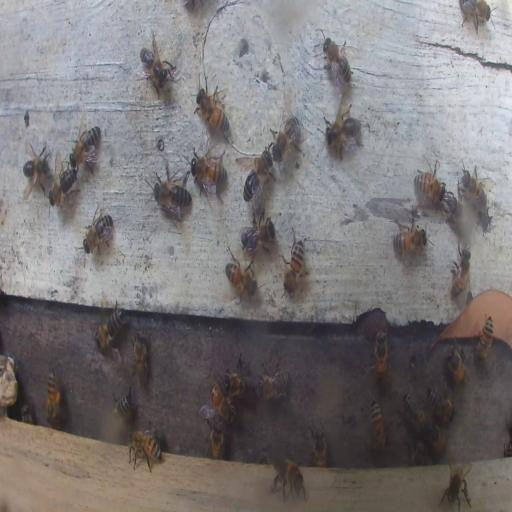nonpollenbee: (138, 35, 178, 94), (324, 102, 364, 157), (152, 166, 192, 221), (243, 143, 274, 210), (196, 79, 230, 135), (458, 161, 490, 217), (320, 34, 352, 89), (268, 457, 307, 502), (21, 140, 52, 195), (392, 212, 427, 260), (82, 205, 114, 256), (270, 110, 300, 164), (282, 227, 306, 294), (441, 461, 473, 511), (126, 429, 162, 473), (94, 305, 128, 351), (189, 150, 226, 191), (69, 124, 101, 170), (241, 214, 273, 258), (50, 158, 78, 208), (446, 194, 476, 239), (224, 258, 256, 298), (256, 363, 290, 400), (368, 398, 391, 452), (414, 164, 446, 202), (459, 0, 494, 34), (401, 392, 428, 434), (427, 385, 455, 424), (451, 244, 471, 297), (132, 329, 149, 386), (210, 383, 234, 420), (476, 315, 494, 363), (223, 367, 253, 395), (445, 347, 467, 383), (310, 426, 328, 468), (374, 329, 388, 383), (206, 419, 224, 458), (426, 423, 446, 458), (114, 387, 134, 419), (410, 438, 429, 464), (21, 404, 33, 422)
pollenbee: (44, 369, 61, 431)
